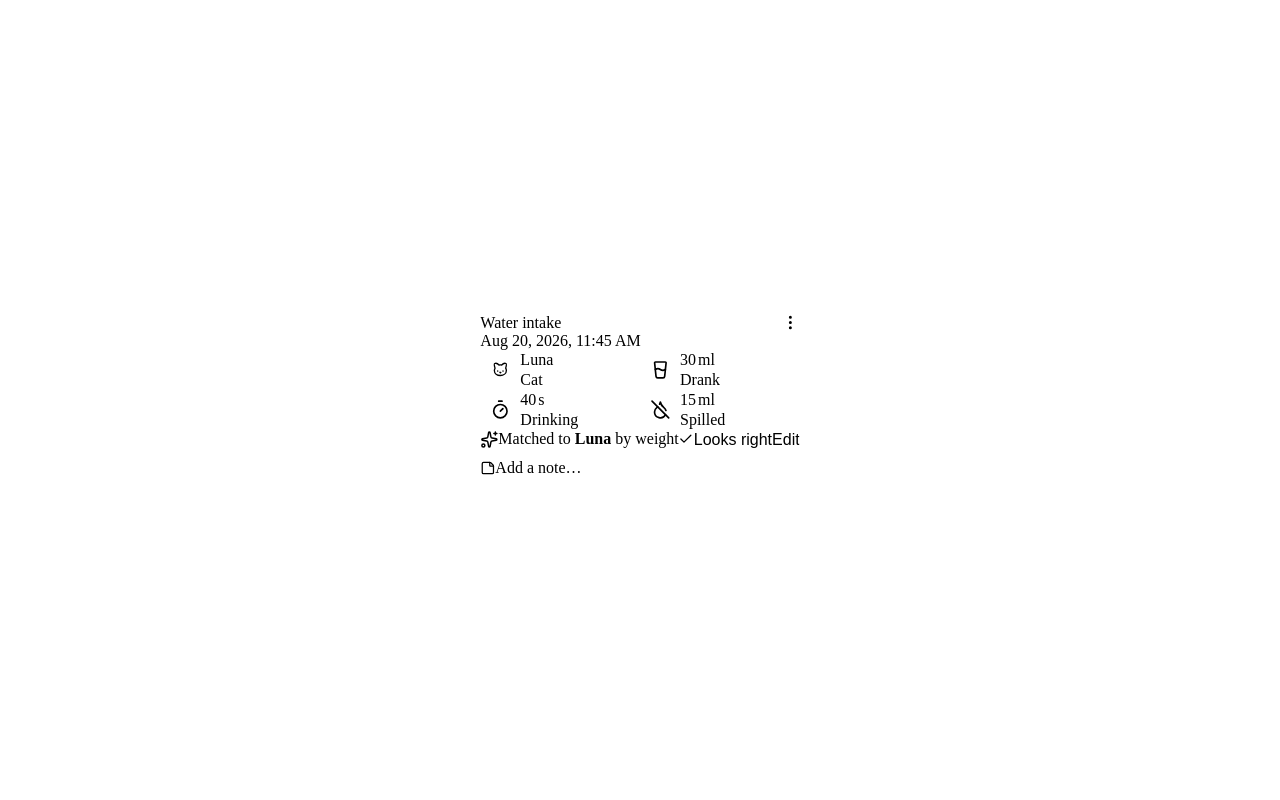
Test: EventDetailsModal › rejects an amount outside its window before anything is written
Click the button "Edit": (786, 439) [772,430,800,448]
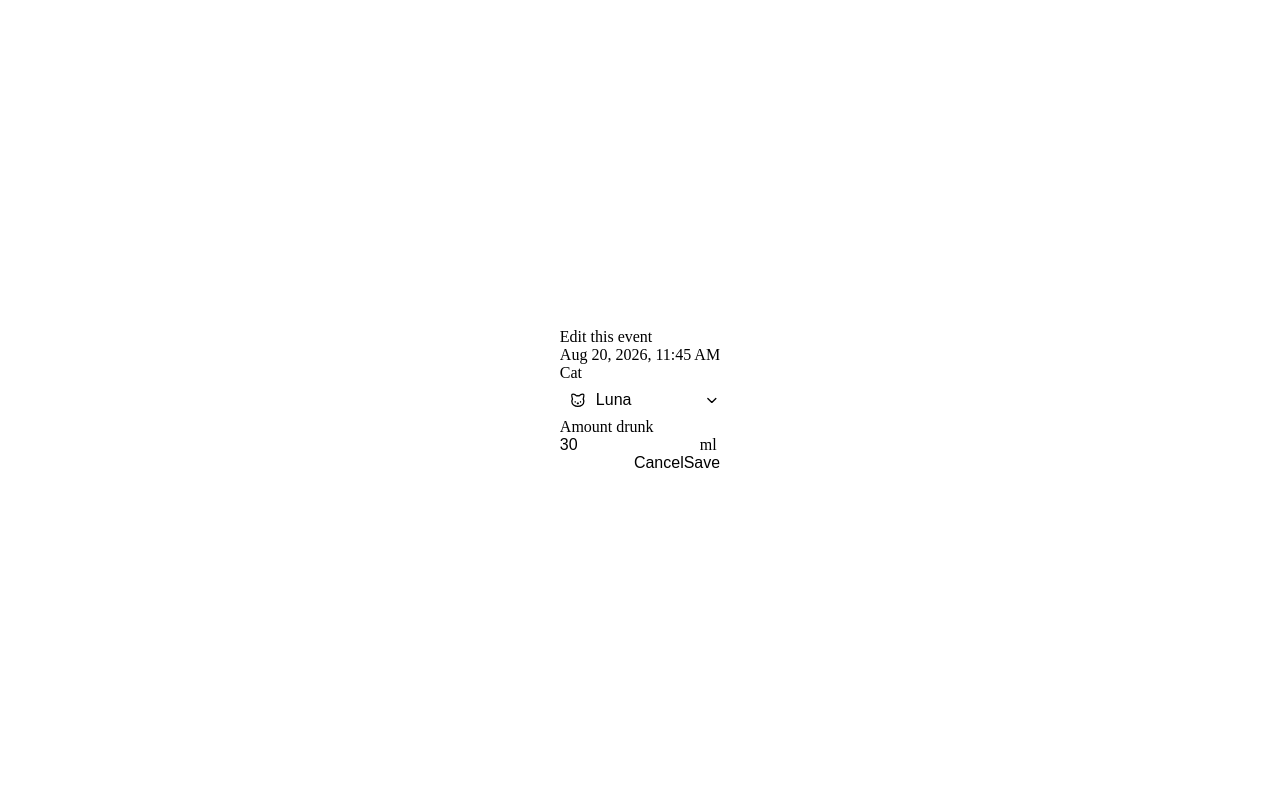
Clear the number field named "Amount drunk": (630, 446) [560,437,700,455]
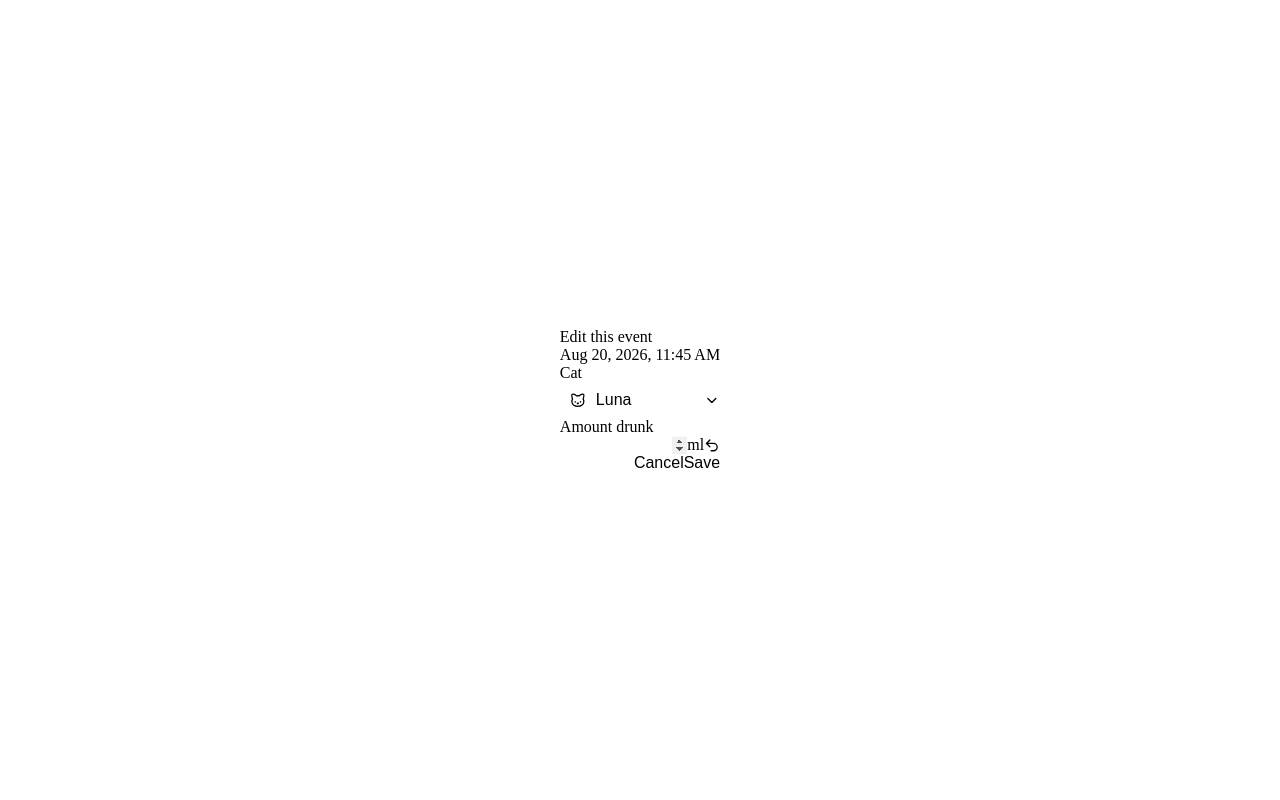
In the number field named "Amount drunk": (624, 446) [560,437,687,455], type "5000"
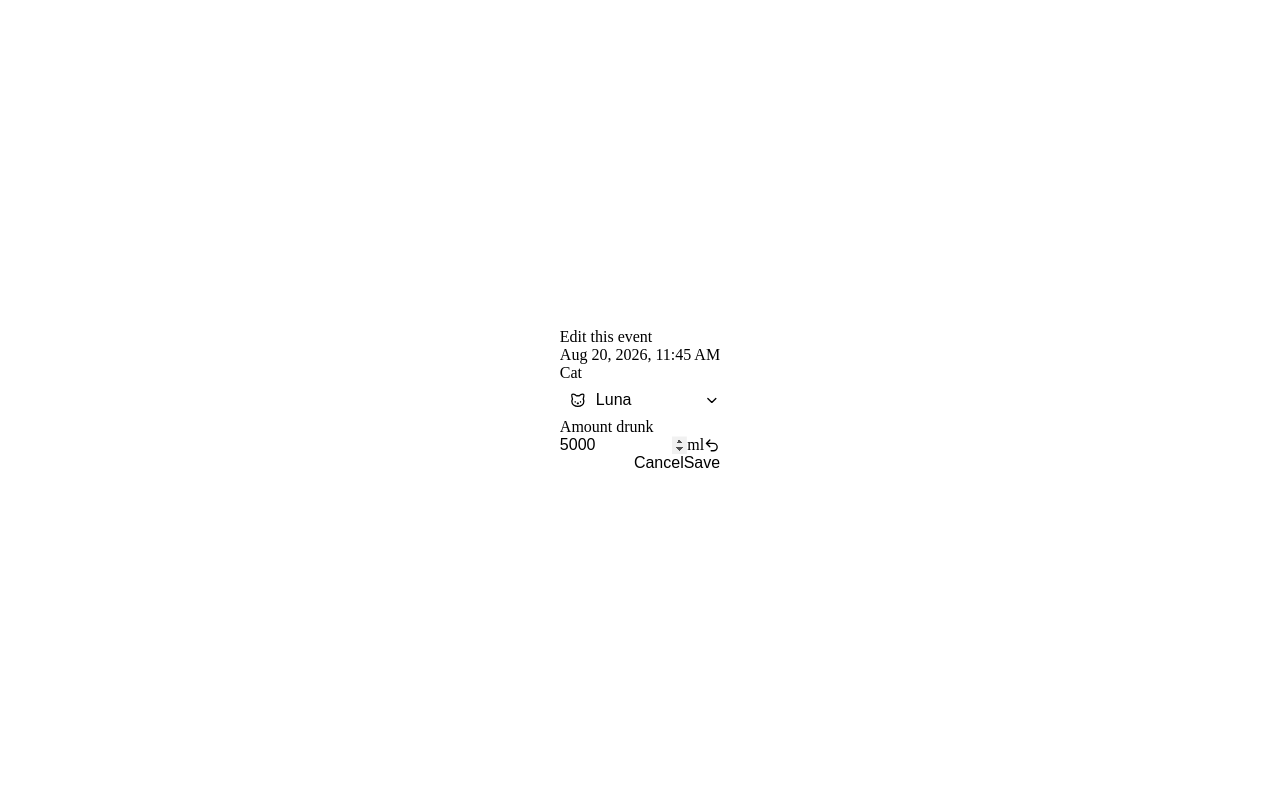
Click the button "Save": (702, 464) [684,455,720,473]
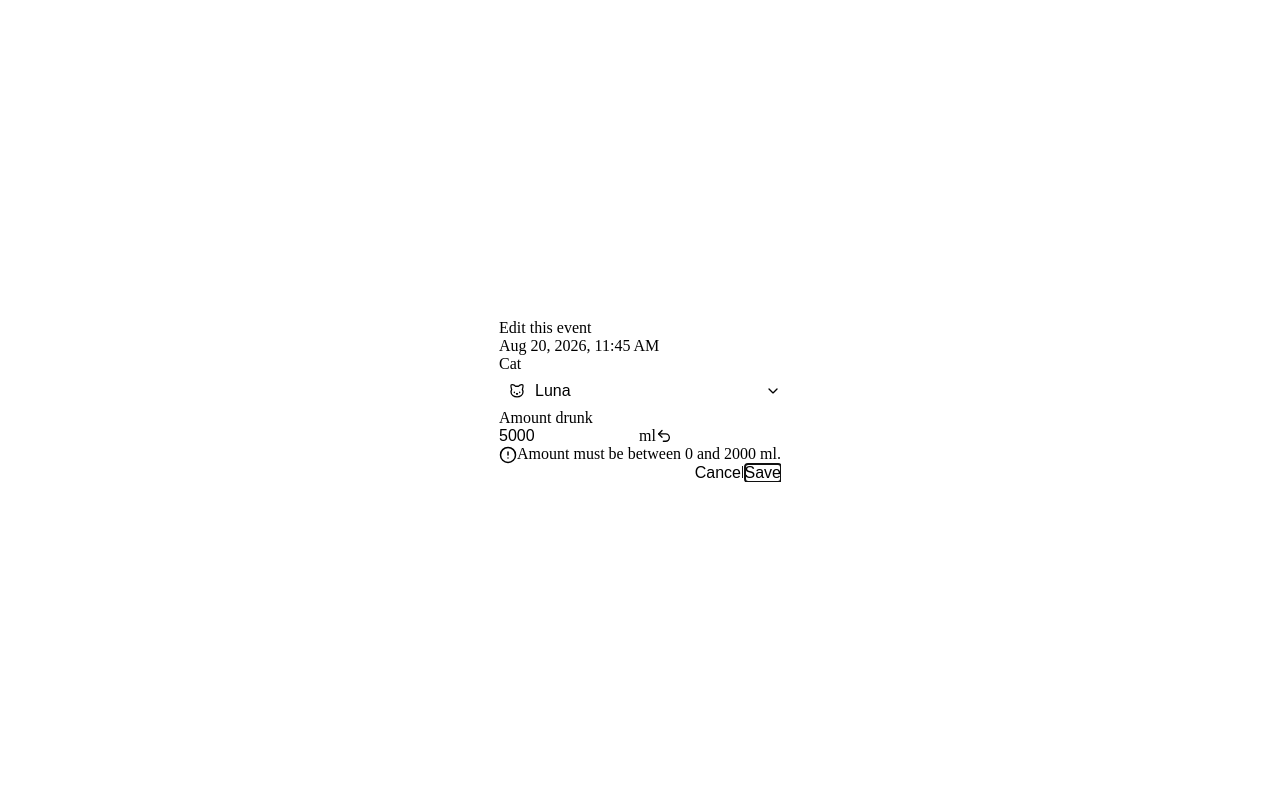
Check: the text "Amount must be between 0 and 2000 ml." is shown, box [517,445,781,463]
